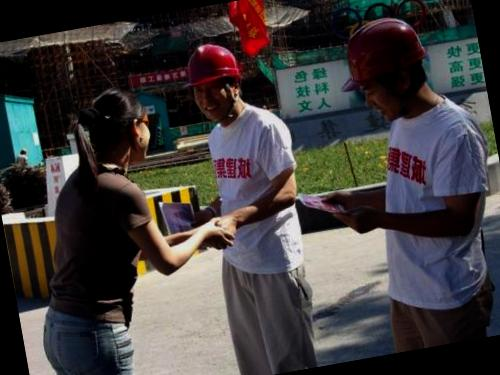no_helmet: (75, 83, 158, 176)
person: (294, 3, 500, 359), (0, 77, 217, 375), (157, 32, 335, 375)
